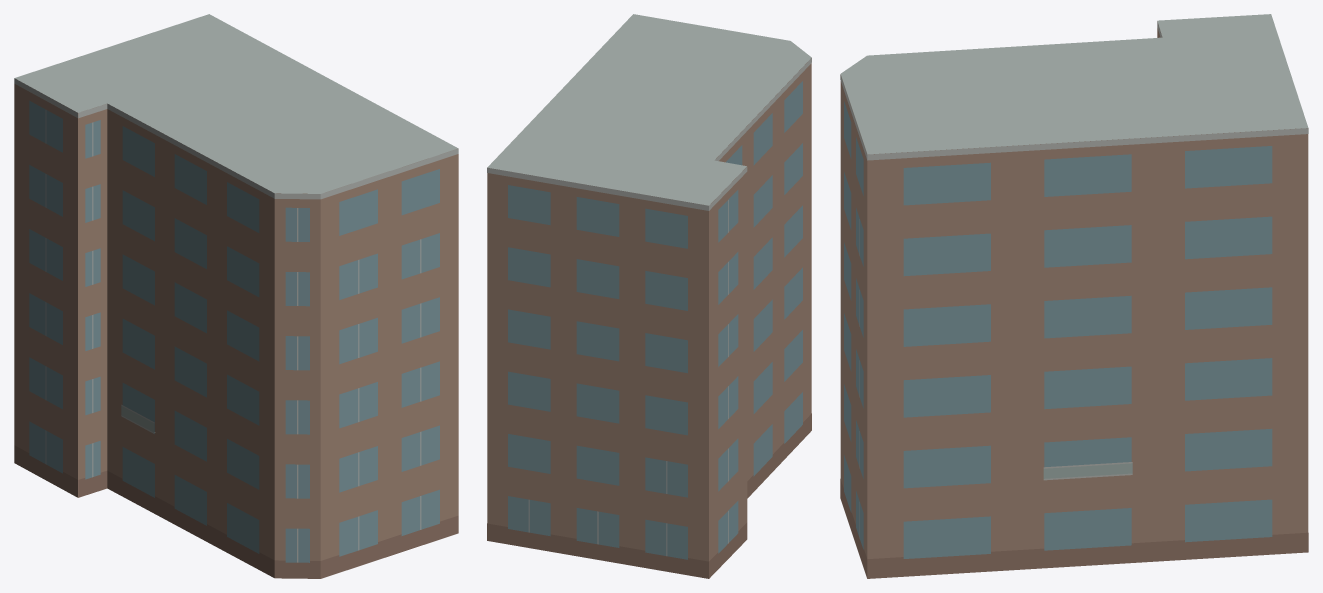
File: survey-upis-32716173.glb
The picture shows the model from 3 angles, left to right: view 1: azimuth 30°, elevation 25°; view 2: azimuth 150°, elevation 25°; view 3: azimuth 270°, elevation 25°; orthographic projection. The views are drawn at different scales.
Visible parts, largest first — view 1: survey-upis-32716173.tmp; view 2: survey-upis-32716173.tmp; view 3: survey-upis-32716173.tmp.
Boxes of the visible parts, bbox=[...] form: survey-upis-32716173.tmp: bbox=[14, 14, 458, 578]; survey-upis-32716173.tmp: bbox=[487, 14, 811, 578]; survey-upis-32716173.tmp: bbox=[840, 14, 1308, 578].
Bounding box in the file's own units: 12.22 × 17.2 × 17.2.
